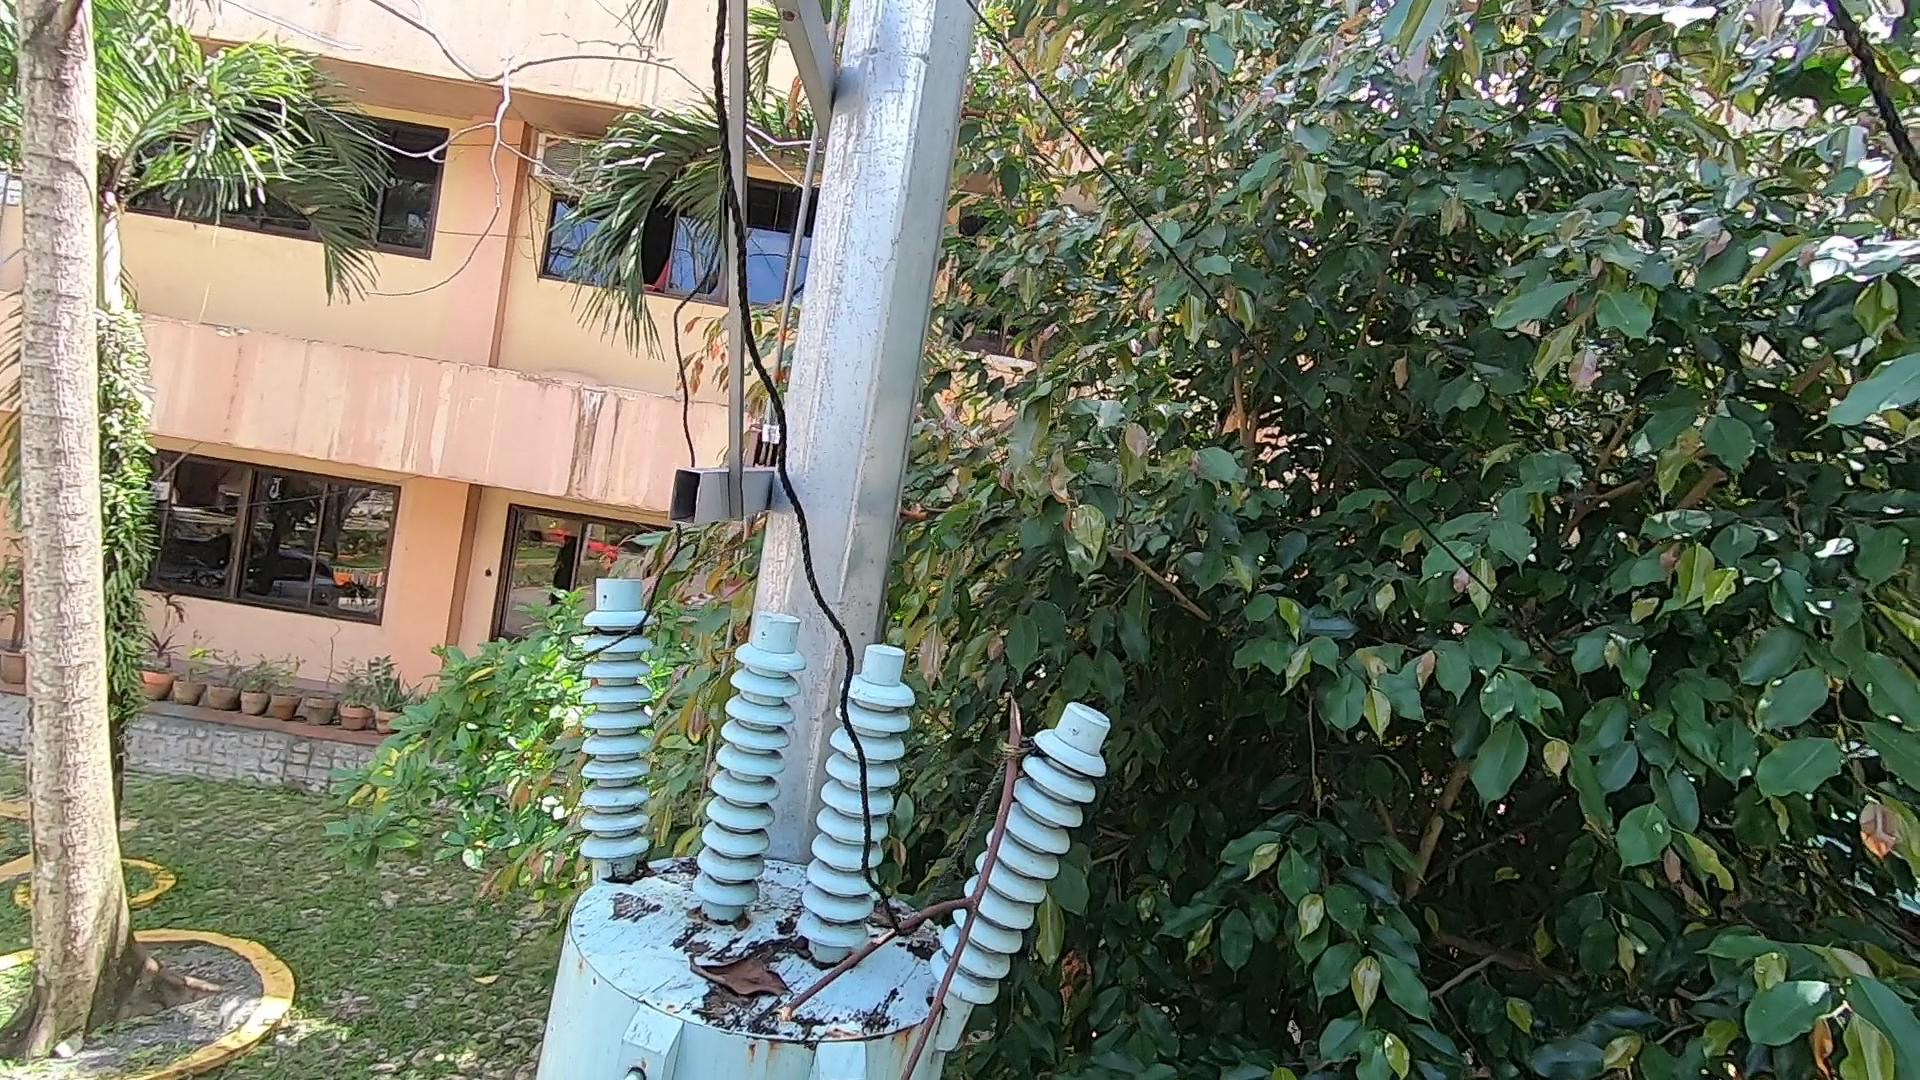leaf: (686, 944, 802, 1009)
tree branch: (775, 687, 1058, 1080)
